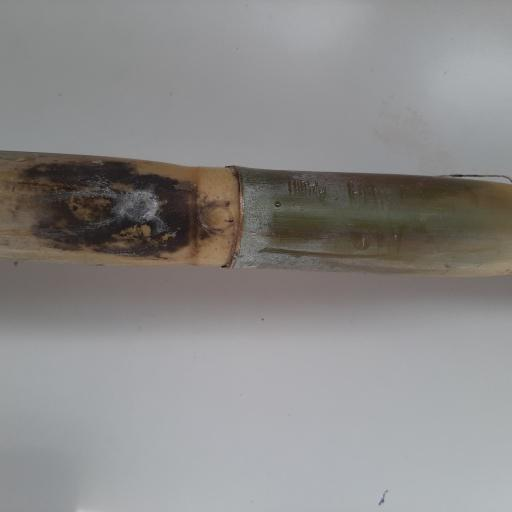Bud: (197, 201, 235, 231)
